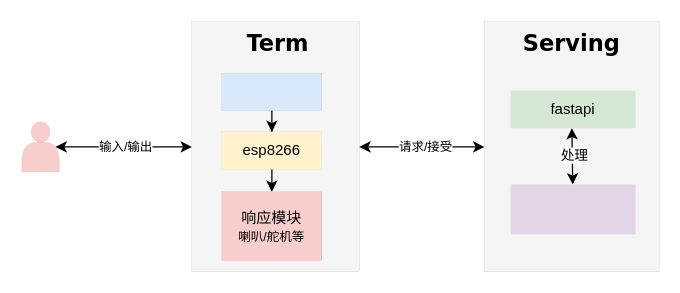
The diagram is 680 pixels wide and 293 high, and some of its shapes have lost their labels. The shapes that lost their labels are listed below. From the top down, each one's centre as x and y in pixels, then its label:
At point (271, 91): "语音模块".
At point (572, 209): "deepseek".
